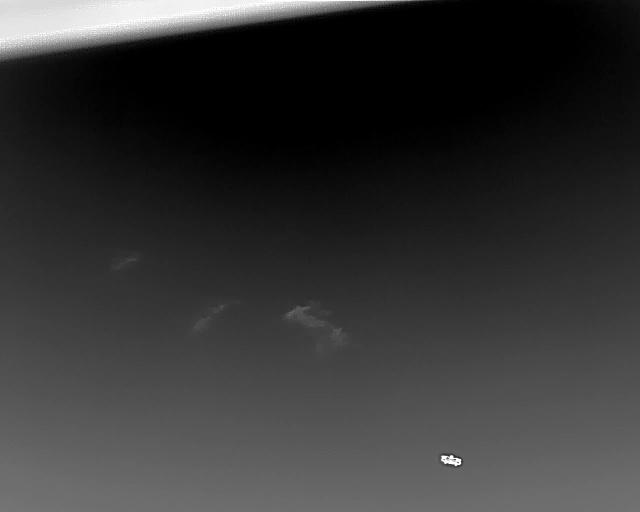fpv-drone: (439, 453, 462, 467)
